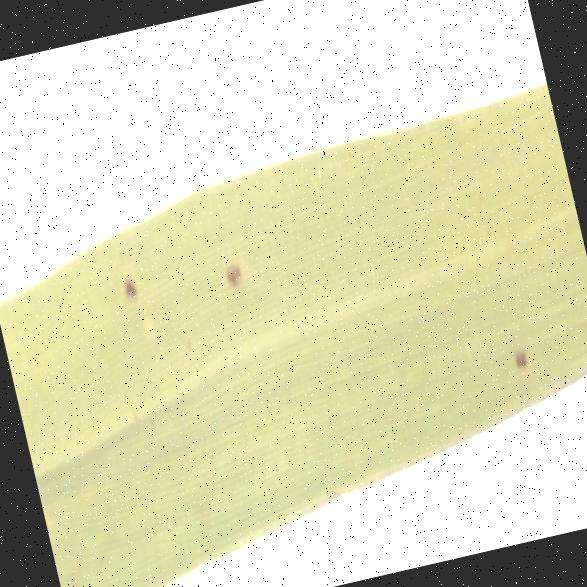Brown_Spot: (208, 238, 254, 309), (493, 313, 533, 380), (110, 253, 143, 314)
